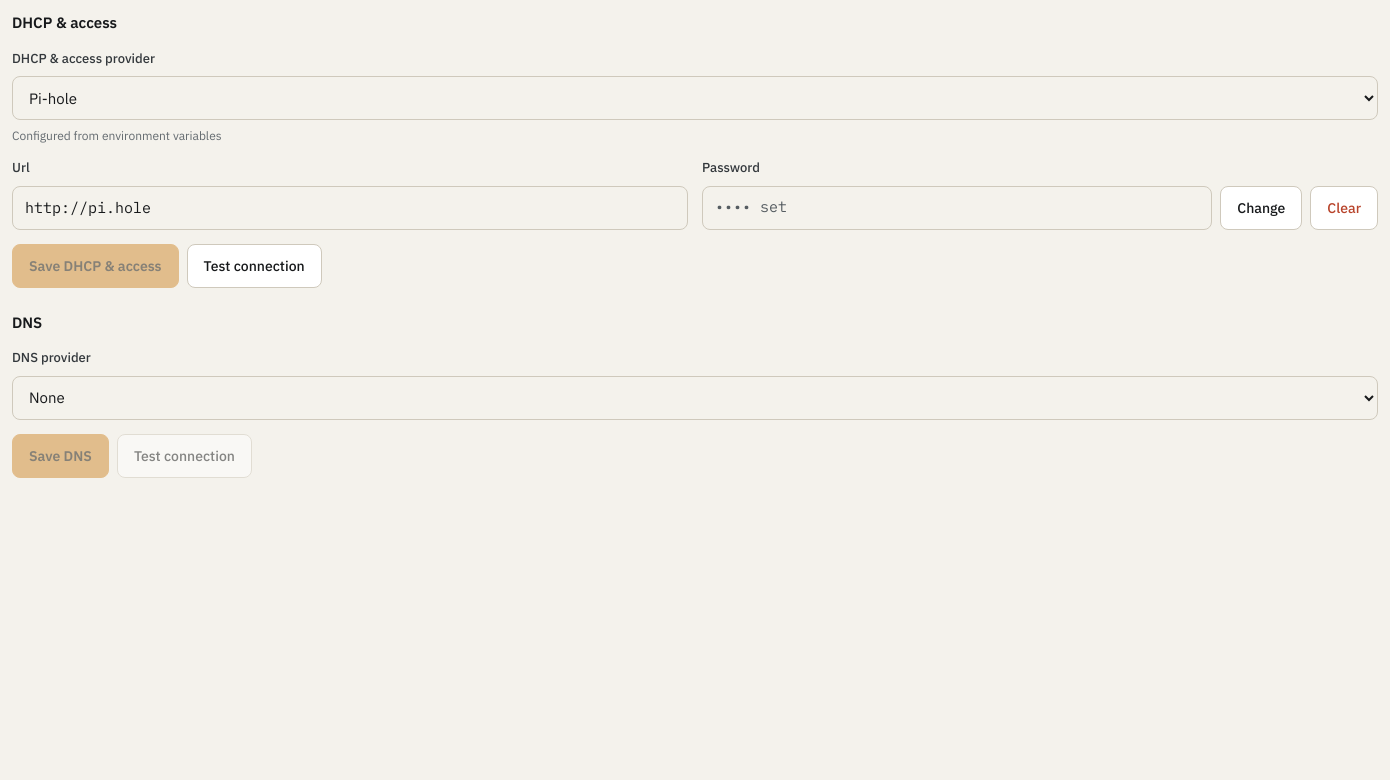
it: explains that Pi-hole must be rolled back first while it serves DHCP, even in dry-run, and shows the refusal
Select "UniFi" in the dropdown labelled "DHCP & access provider": [695, 98] box [12,76,1378,120]
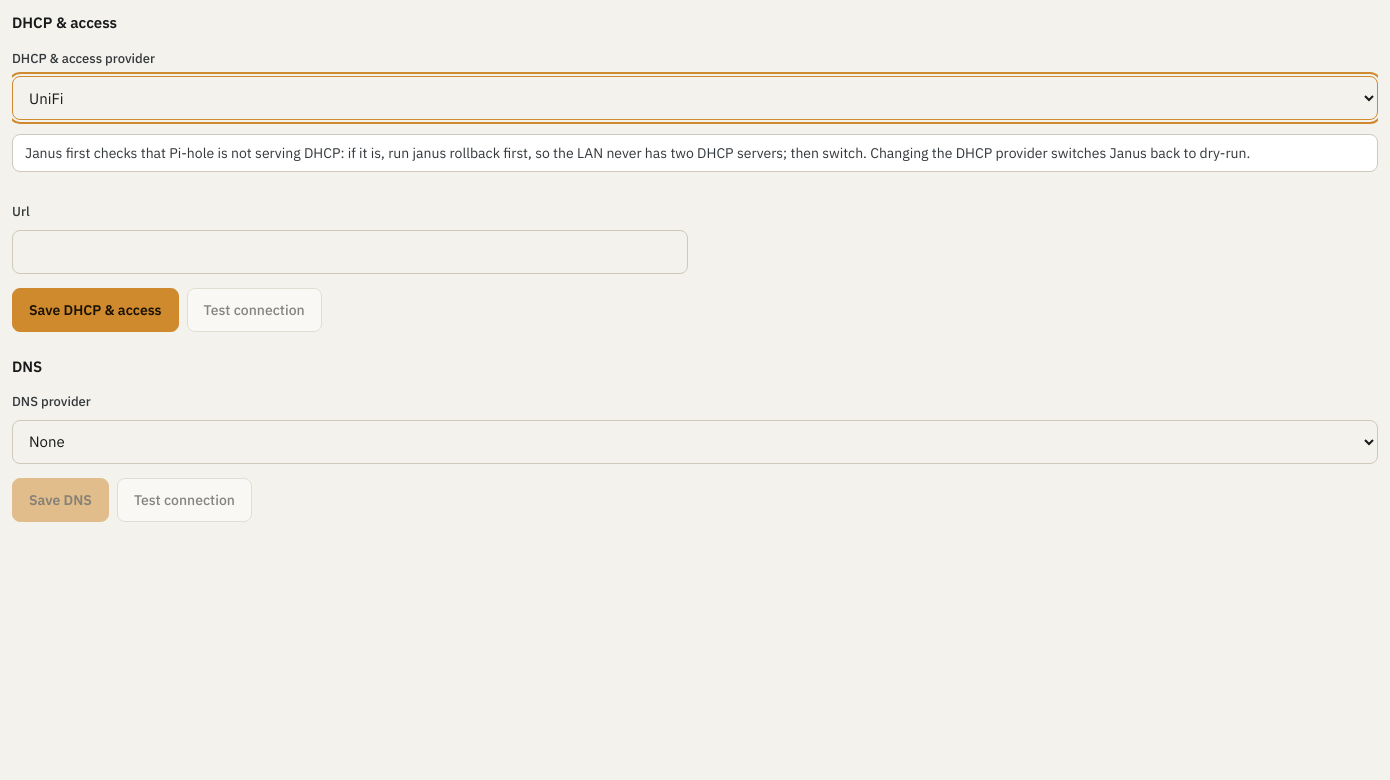
Expected: the text "checks that Pi-hole is not serving DHCP: if it is, run janus rollback first" is shown, [25,144,1250,162]
Click the button "Save DHCP & access": [95, 310] box [12,288,179,332]
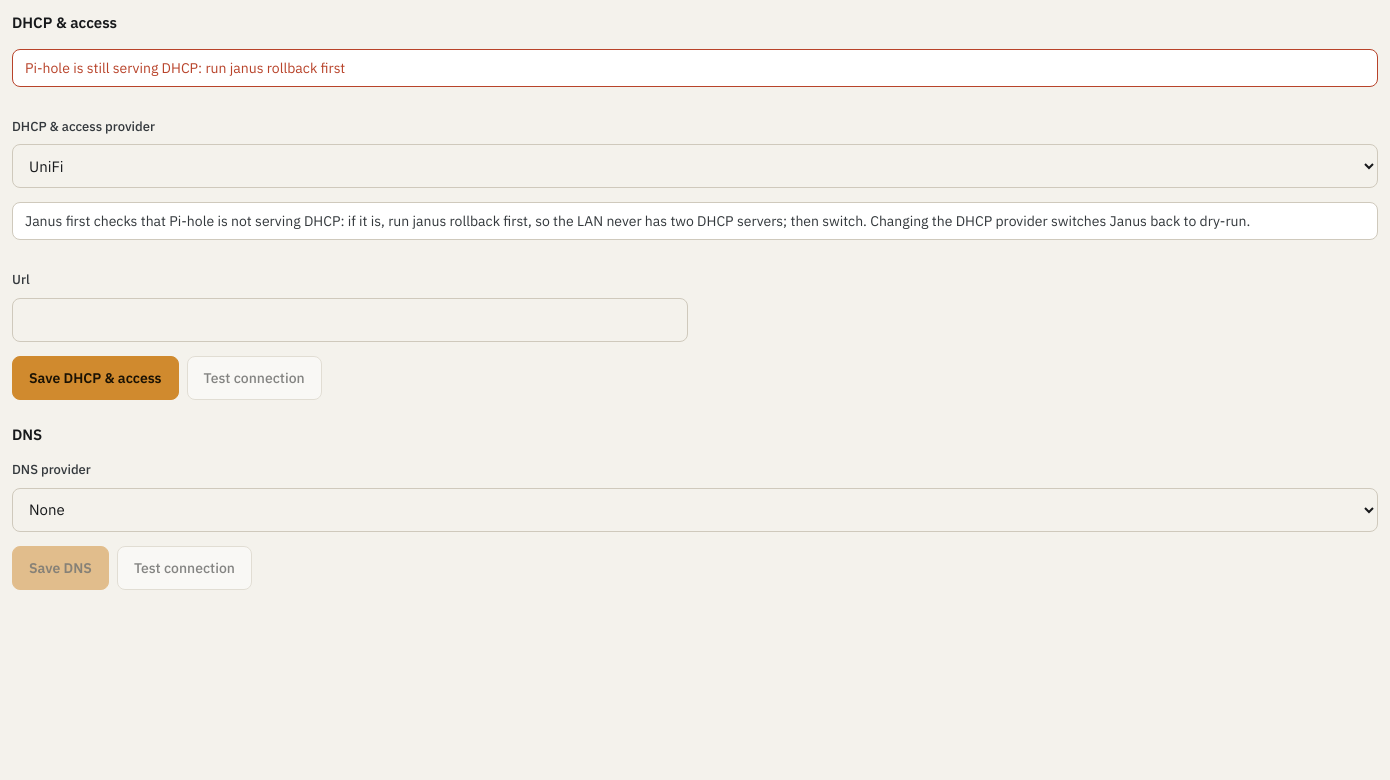
Expected: the text "Pi-hole is still serving DHCP: run janus rollback first" is shown, [12,48,1378,86]
